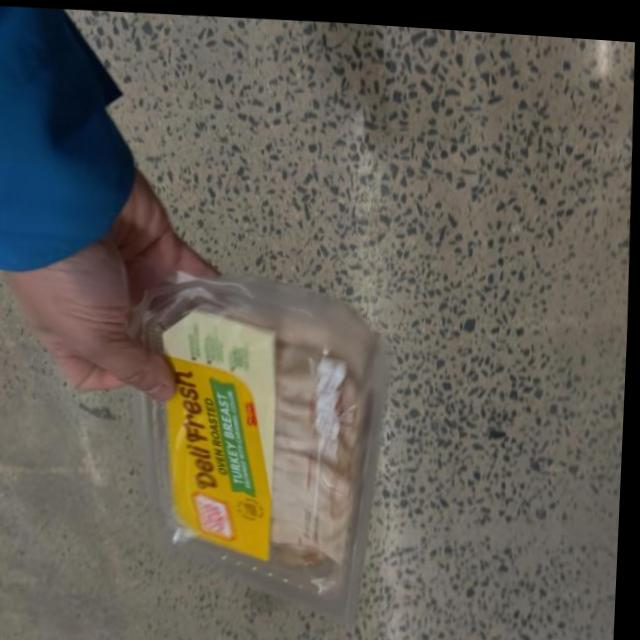Meat: (124, 248, 391, 639)
